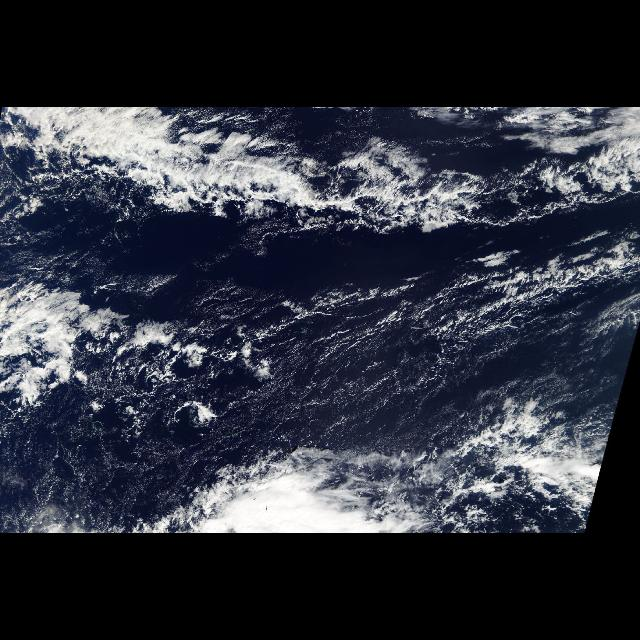Fish: (55, 108, 527, 245)
Gravel: (286, 302, 510, 434), (78, 373, 268, 485)
